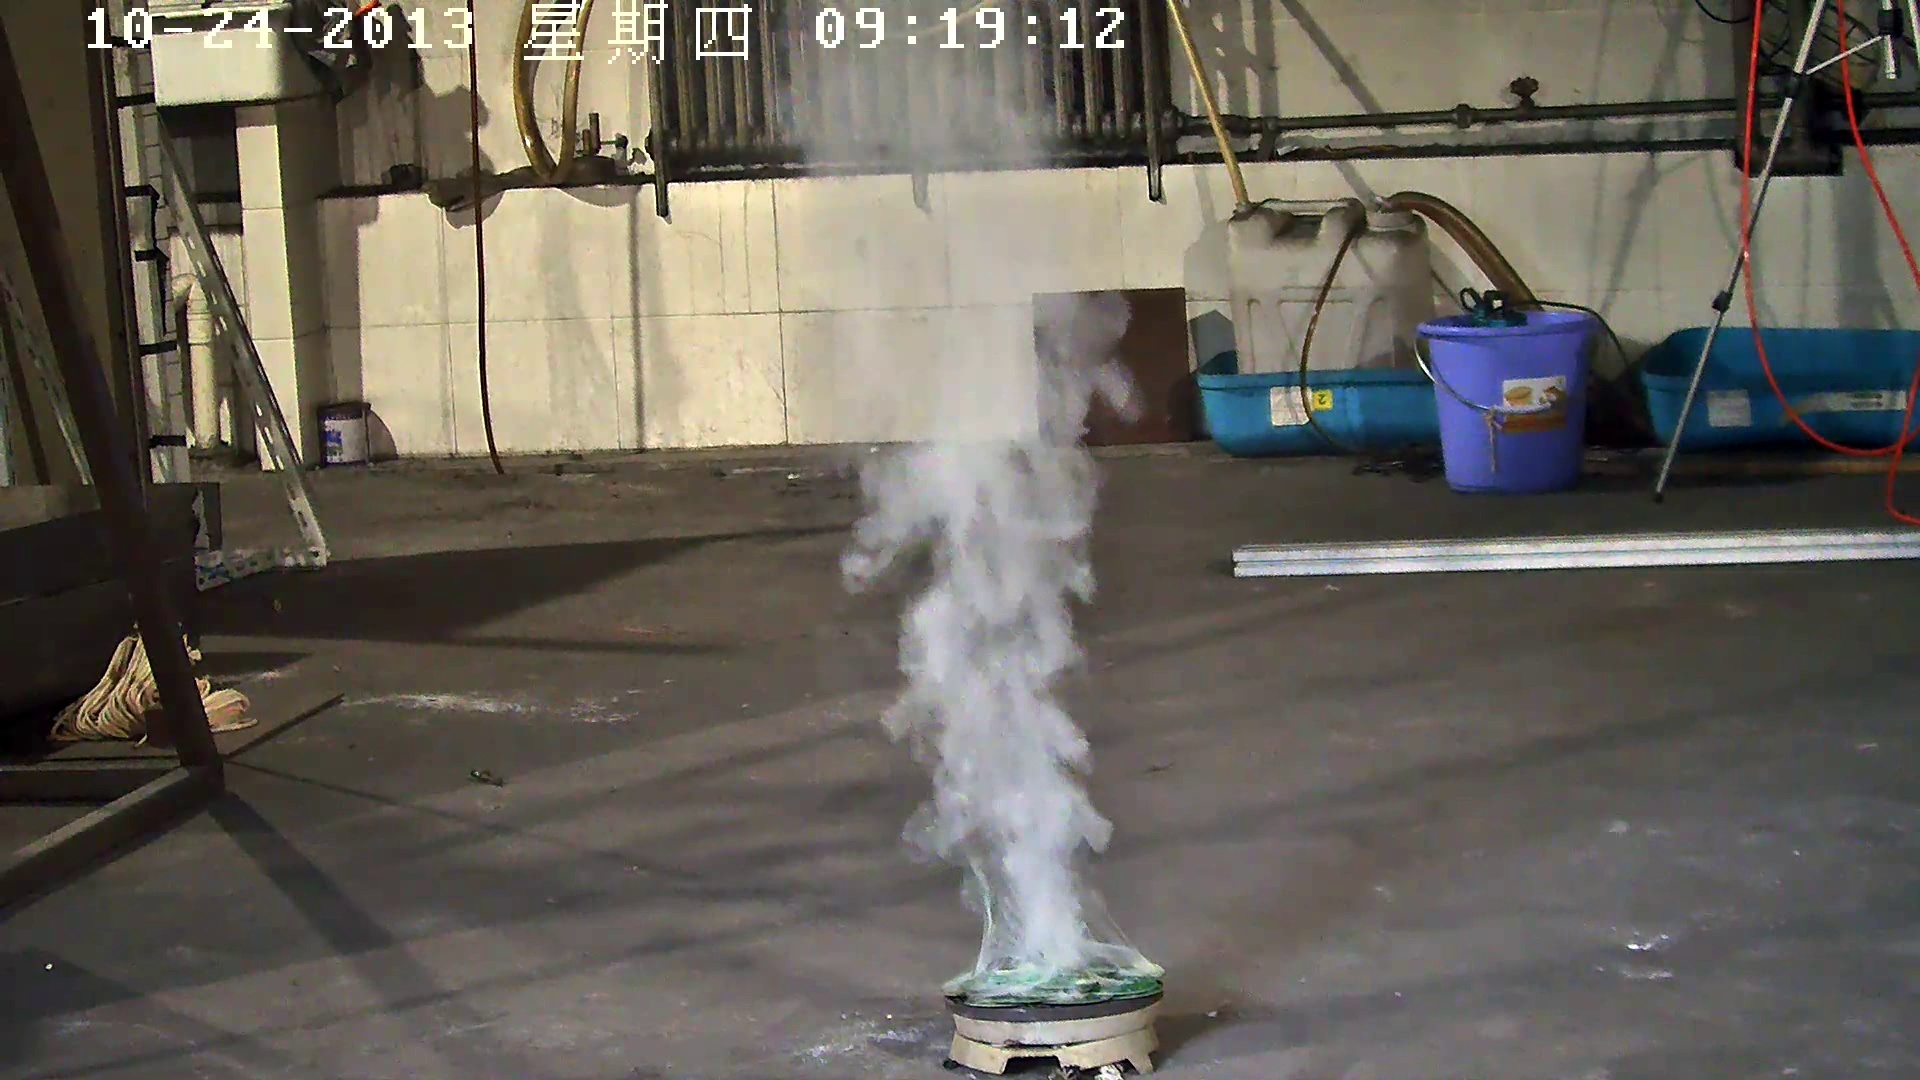smoke: (748, 26, 1158, 1000)
